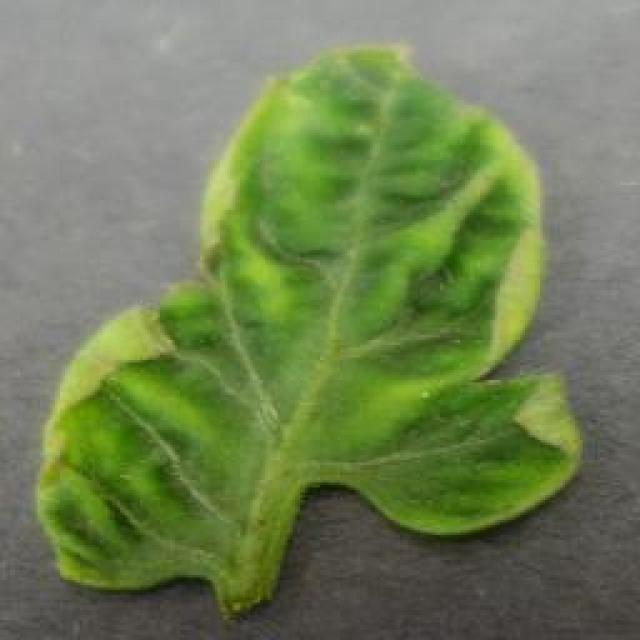Tom_Yellow_Leaf_Curl_Virus: (120, 71, 555, 495)
